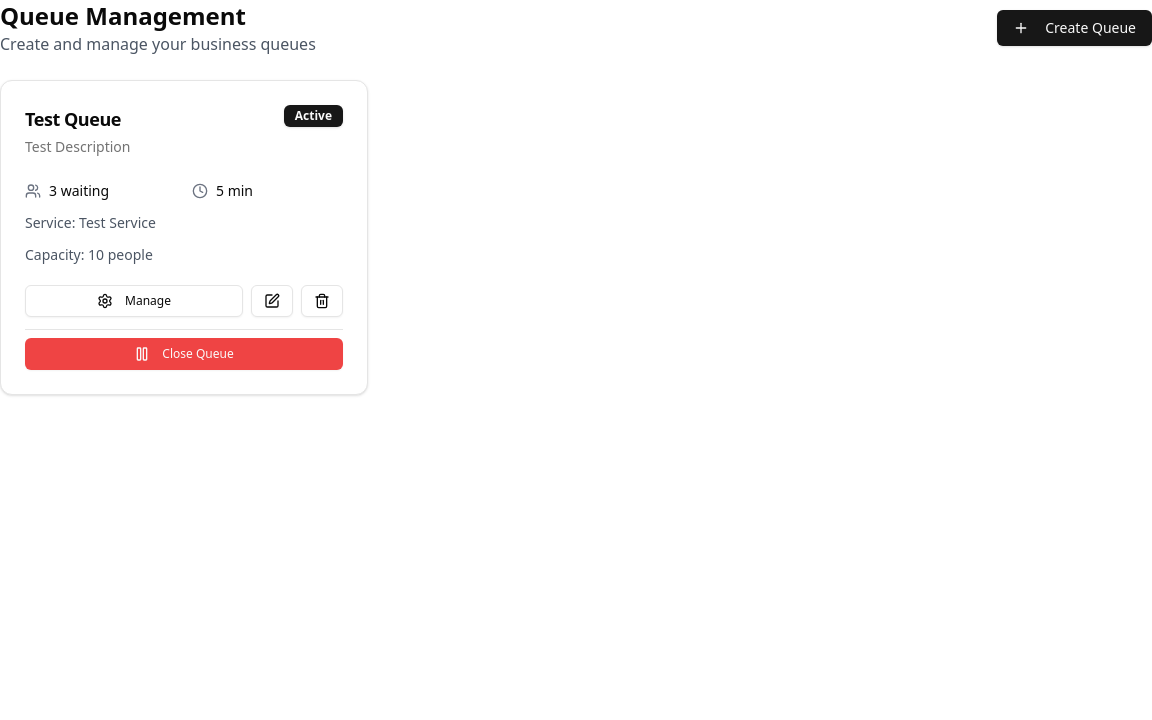
Scenario: QueueManagement › handles create queue dialog opening
Click the button "Create Queue" at (1075, 28), box [997,10,1151,46]
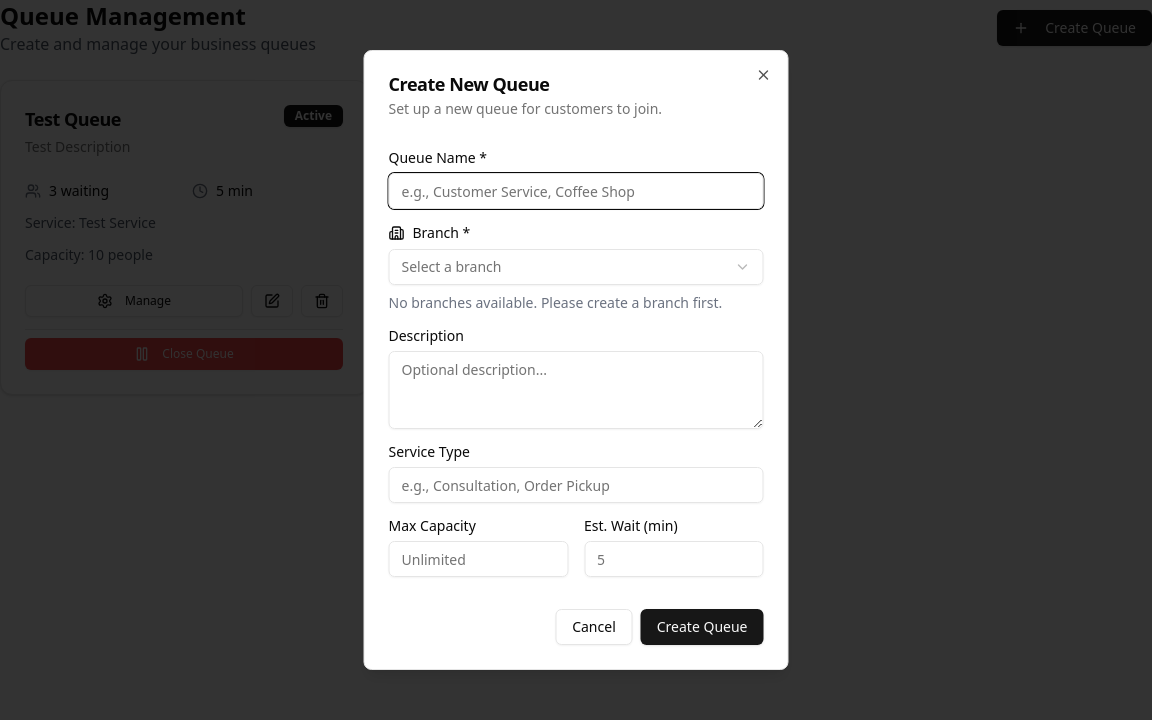
Result: the heading "Create New Queue" is shown at [388,72,550,96]
Result: the text "Set up a new queue for customers to join." is shown at [388,99,662,118]
